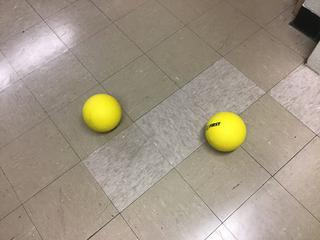power_cell: (81, 94, 123, 134), (208, 109, 245, 152)
